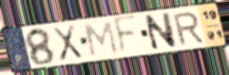8: (23, 26, 58, 67)
F: (112, 13, 139, 58)
M: (82, 20, 120, 58)
N: (142, 11, 179, 53)
R: (171, 10, 206, 47)
X: (50, 23, 85, 63)
